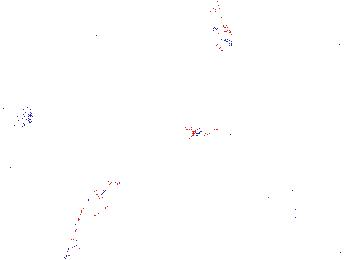X-ray fish: (190, 3, 234, 54)
glassfish: (65, 161, 132, 257), (196, 133, 277, 190)
redtail glassfish: (185, 116, 245, 148)
